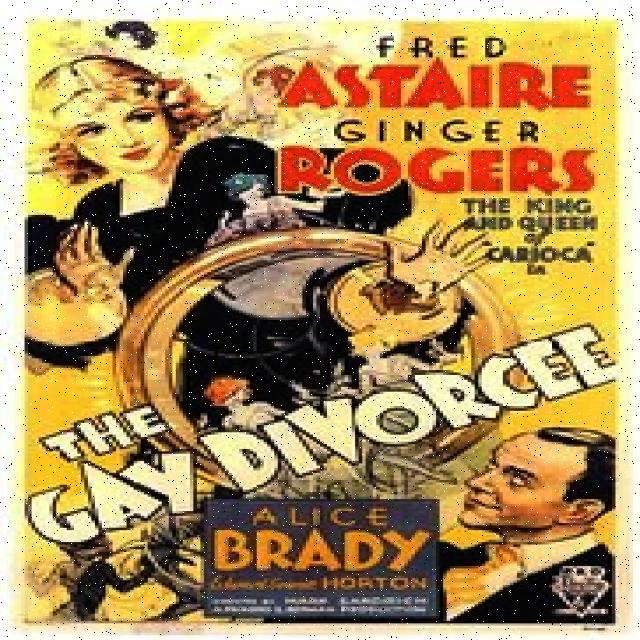movie-judul: (28, 326, 616, 542)
picture: (31, 55, 467, 323), (444, 428, 616, 626)
